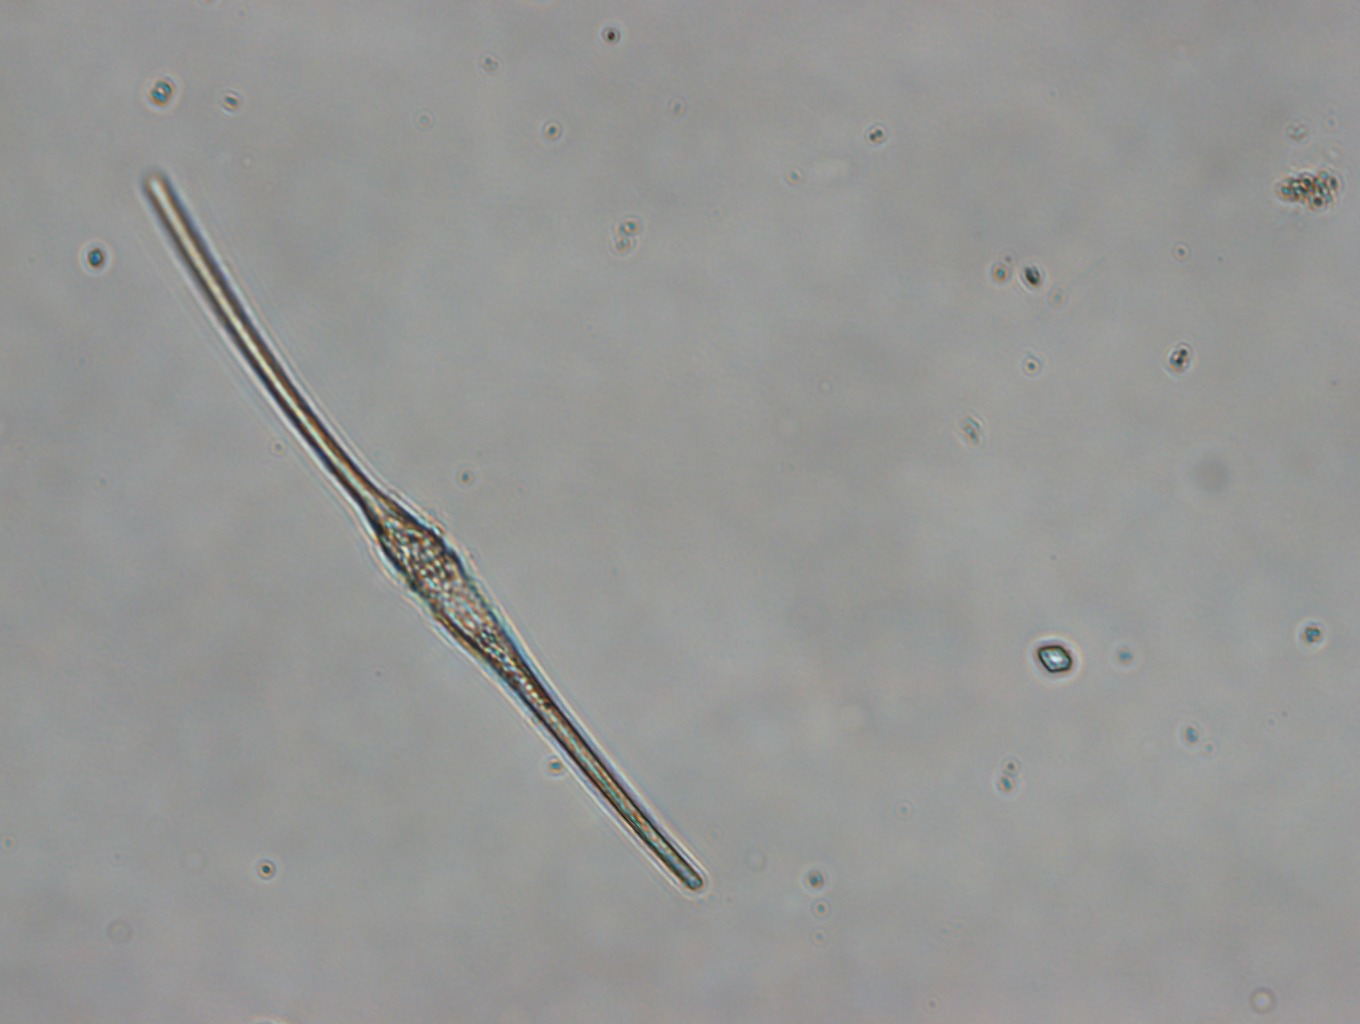ceratium fusus: (140, 163, 708, 894)
